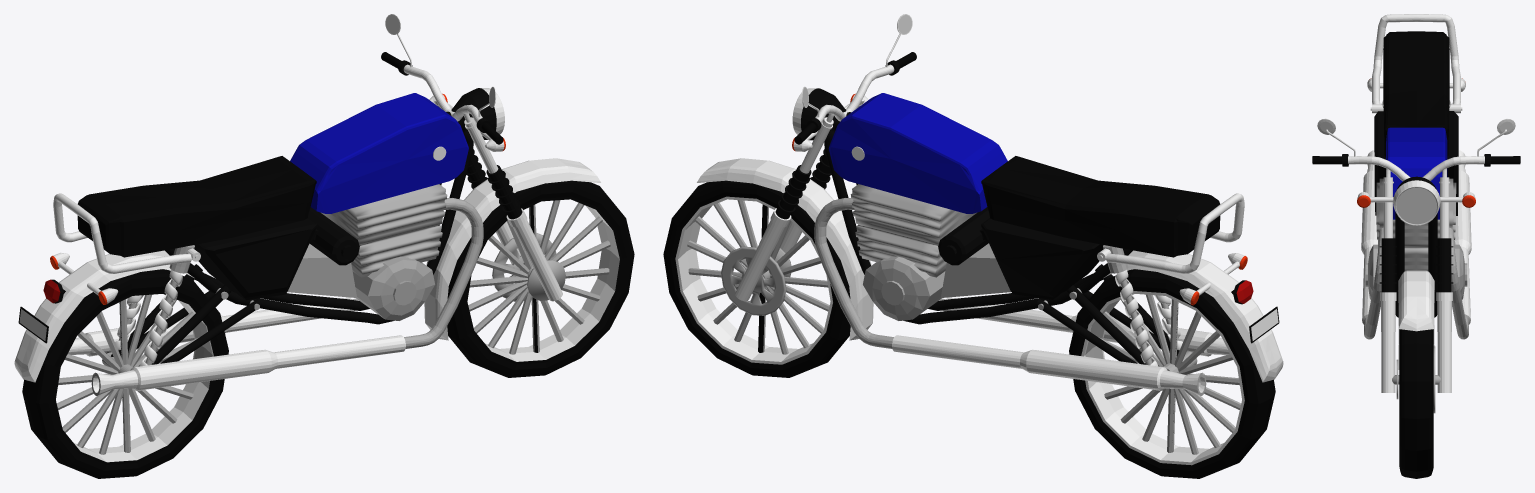
File: motorBlue.obj
3 views of the same model, side by side, from view 1: azimuth 30°, elevation 25°; view 2: azimuth 150°, elevation 25°; view 3: azimuth 270°, elevation 25° (orthographic). The views are drawn at different scales.
Parts seen in each view (by area): view 1: back_wheel_Cylinder.027, Front_wheel_Cylinder.020, seat_Cube, tank_Cube.002, exhaust_Cylinder.004, engine_1_Cube.003, engine_2_Cube.001, Front_water_Cube.006, back_water_Cube.005, frame_Cylinder.001, front_bumper_Cylinder.008, engine_4_Cylinder (+11 smaller); view 2: back_wheel_Cylinder.027, Front_wheel_Cylinder.020, seat_Cube, tank_Cube.002, exhaust_Cylinder.004, engine_1_Cube.003, engine_2_Cube.001, Front_water_Cube.006, back_water_Cube.005, frame_Cylinder.001, front_bumper_Cylinder.008, engine_4_Cylinder (+11 smaller); view 3: seat_Cube, front_bumper_Cylinder.008, Front_wheel_Cylinder.020, exhaust_Cylinder.004, tank_Cube.002, Front_water_Cube.006, engine_1_Cube.003, fender_back_Circle.001, Headlight_Cylinder.023, steering_Cylinder.017, frame_Cylinder.001, engine_2_Cube.001 (+5 smaller).
Part boxes in pixels (left/top/right/bottom): back_wheel_Cylinder.027: left=22, top=269, right=228, bottom=478; Front_wheel_Cylinder.020: left=447, top=180, right=634, bottom=377; seat_Cube: left=77, top=156, right=316, bottom=257; tank_Cube.002: left=290, top=93, right=468, bottom=213; exhaust_Cylinder.004: left=68, top=198, right=483, bottom=395; engine_1_Cube.003: left=321, top=184, right=447, bottom=277; engine_2_Cube.001: left=194, top=218, right=318, bottom=300; Front_water_Cube.006: left=424, top=158, right=600, bottom=340; back_water_Cube.005: left=14, top=250, right=223, bottom=382; frame_Cylinder.001: left=165, top=128, right=473, bottom=324; front_bumper_Cylinder.008: left=433, top=97, right=562, bottom=301; engine_4_Cylinder: left=352, top=256, right=434, bottom=320; back_wheel_Cylinder.027: left=1069, top=269, right=1275, bottom=478; Front_wheel_Cylinder.020: left=663, top=180, right=850, bottom=377; seat_Cube: left=981, top=156, right=1220, bottom=257; tank_Cube.002: left=828, top=93, right=1007, bottom=213; exhaust_Cylinder.004: left=814, top=198, right=1229, bottom=395; engine_1_Cube.003: left=850, top=184, right=976, bottom=277; engine_2_Cube.001: left=980, top=218, right=1103, bottom=299; Front_water_Cube.006: left=697, top=158, right=873, bottom=340; back_water_Cube.005: left=1074, top=250, right=1283, bottom=382; frame_Cylinder.001: left=824, top=128, right=1132, bottom=324; front_bumper_Cylinder.008: left=735, top=97, right=864, bottom=301; engine_4_Cylinder: left=863, top=256, right=945, bottom=320; seat_Cube: left=1383, top=31, right=1449, bottom=156; front_bumper_Cylinder.008: left=1379, top=168, right=1453, bottom=392; Front_wheel_Cylinder.020: left=1399, top=329, right=1433, bottom=478; exhaust_Cylinder.004: left=1361, top=150, right=1471, bottom=339; tank_Cube.002: left=1386, top=127, right=1447, bottom=219; Front_water_Cube.006: left=1398, top=270, right=1434, bottom=369; engine_1_Cube.003: left=1376, top=178, right=1456, bottom=270; fender_back_Circle.001: left=1372, top=14, right=1460, bottom=104; Headlight_Cylinder.023: left=1393, top=176, right=1440, bottom=225; steering_Cylinder.017: left=1312, top=154, right=1520, bottom=181; frame_Cylinder.001: left=1395, top=212, right=1437, bottom=317; engine_2_Cube.001: left=1374, top=111, right=1458, bottom=196.
Size of the model in its own units: 7.39 by 4.01 by 2.43.
